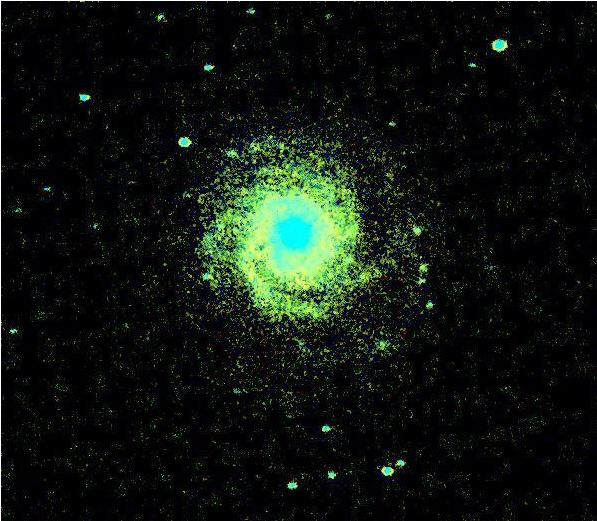star: (326, 214, 356, 244)
